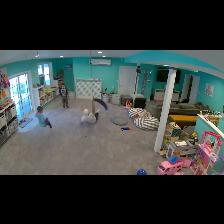person: (81, 100, 99, 123), (36, 107, 51, 128), (60, 83, 68, 108)
